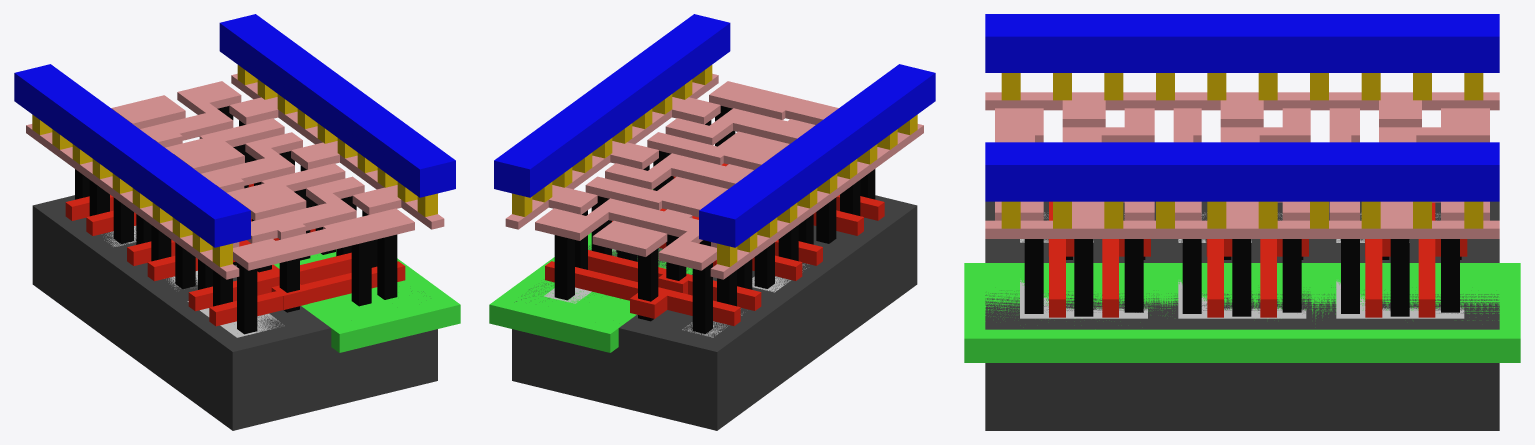
File: sky130_fd_sc_hd__dlymetal6s6s_1.obj
3 views of the same model, side by side, from view 1: azimuth 30°, elevation 25°; view 2: azimuth 150°, elevation 25°; view 3: azimuth 270°, elevation 25° (orthographic). The views are drawn at different scales.
Visible parts, largest first — view 1: subs, li, metal1, licon, poly, nwell, mcon, diff; view 2: subs, li, metal1, licon, poly, nwell, mcon, diff; view 3: metal1, subs, li, nwell, licon, mcon, poly, tap.
Part boxes in pixels (x1,y1,x2,y2): subs: (32,195,437,430); li: (26,73,444,279); metal1: (14,14,455,247); licon: (75,106,397,334); poly: (65,183,405,326); nwell: (274,249,460,352); mcon: (32,65,437,266); diff: (104,226,284,337); subs: (512,195,917,430); li: (505,73,923,279); metal1: (494,14,935,247); licon: (554,106,875,333); poly: (545,163,884,325); nwell: (489,189,692,352); mcon: (512,65,917,266); diff: (682,264,807,337); metal1: (985,14,1499,201); subs: (985,201,1499,430); li: (985,92,1499,238); nwell: (964,263,1520,362); licon: (1024,239,1461,316); mcon: (1001,73,1483,228); poly: (1048,201,1467,317); tap: (1020,280,1464,318).
Size of the model in its own units: 3.2 by 2.74 by 4.98.
